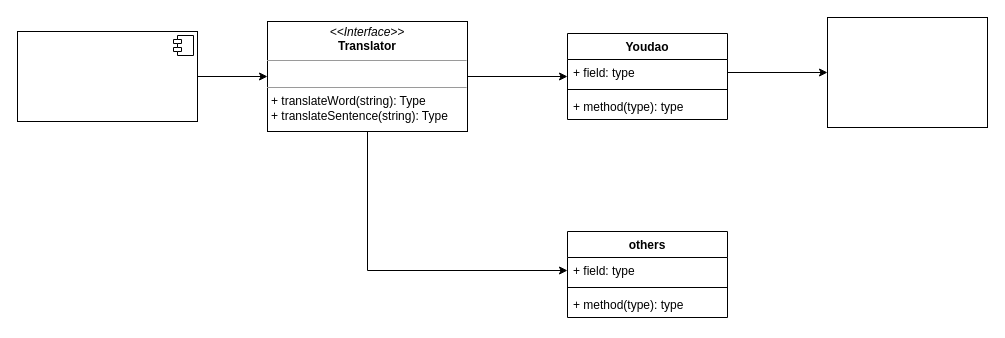
The diagram is 1005 pixels wide and 338 high, and some of its shapes have lost their labels. Each missing label, with the centre of its shape:
"API + get(): Type + post(): Type + fetchXML(): Type" goes at point 907,72.
"Background" goes at point 107,76.
